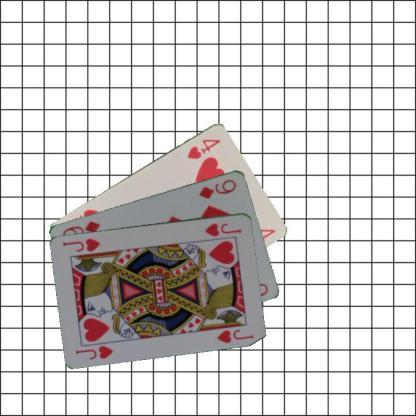4h: (184, 136, 222, 162)
9d: (196, 176, 238, 201)
Jh: (72, 342, 115, 361), (202, 220, 243, 238)
